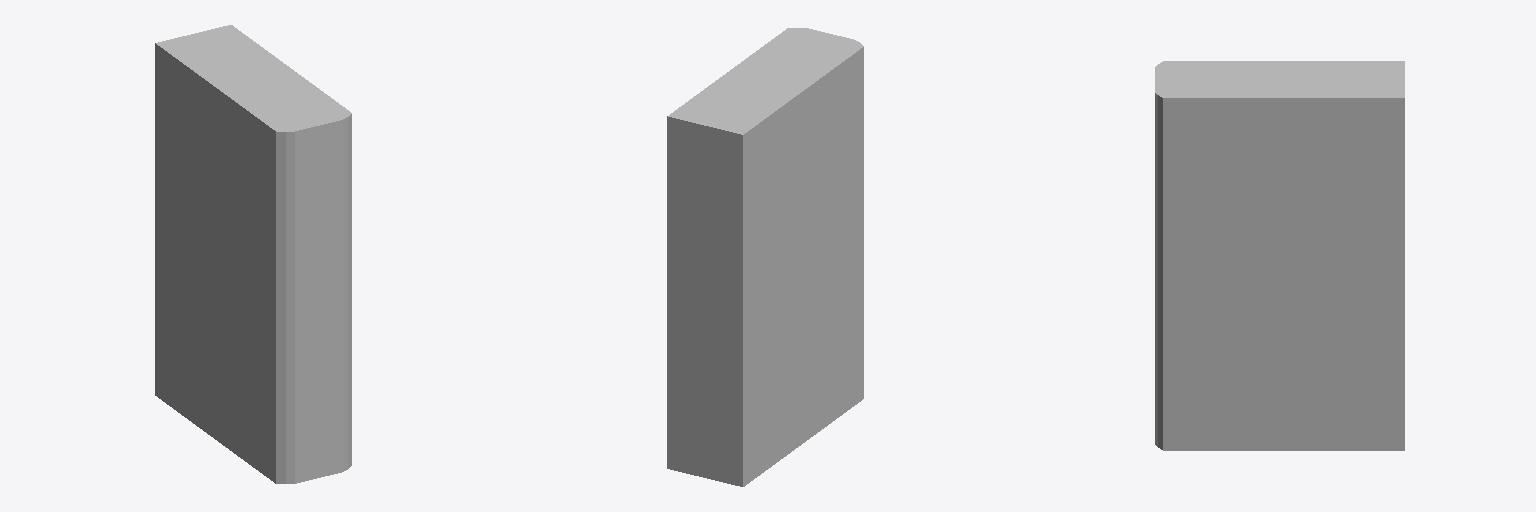
3 renders of one model, left to right at view 1: azimuth 30°, elevation 25°; view 2: azimuth 150°, elevation 25°; view 3: azimuth 270°, elevation 25°, orthographic.
Visible parts, largest first — view 1: book01; view 2: book01; view 3: book01.
Boxes of the visible parts, x1,y1,x2,y2 form: book01: [155, 25, 351, 483]; book01: [667, 28, 863, 486]; book01: [1155, 61, 1404, 450].
Size of the model in its own units: 0.0713 by 0.3158 by 0.2038.